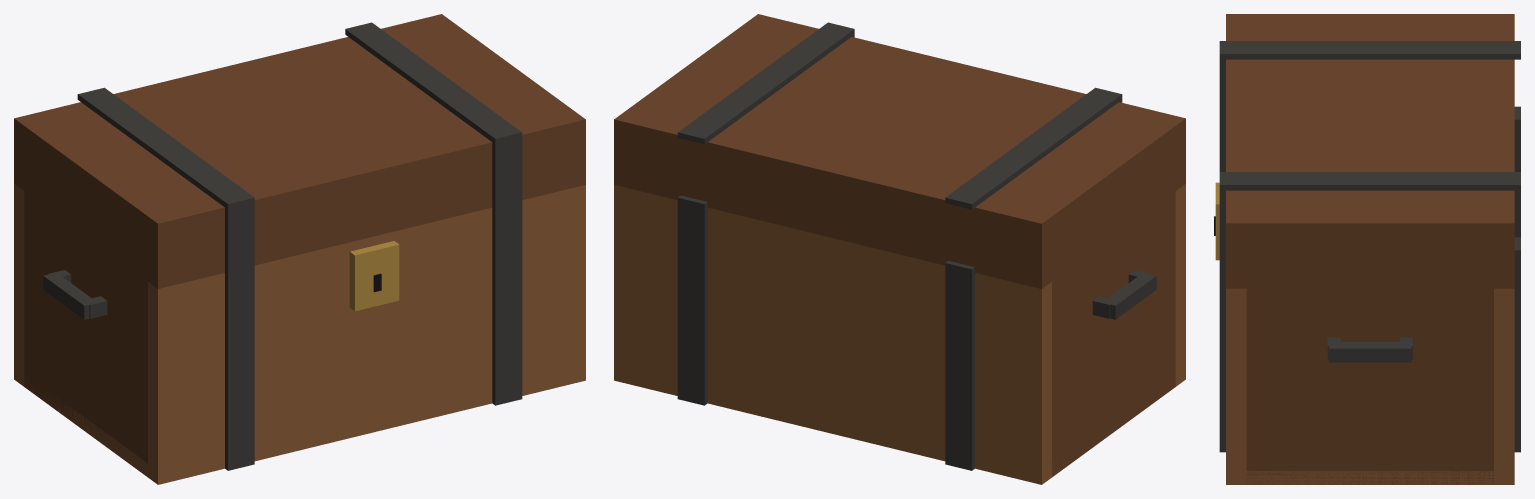
The model's file is prop-cave-chest.glb.
3 renders of one model, left to right at view 1: azimuth 30°, elevation 25°; view 2: azimuth 150°, elevation 25°; view 3: azimuth 270°, elevation 25°, orthographic.
Parts seen in each view (by area): view 1: CaveChest; view 2: CaveChest; view 3: CaveChest.
Boxes of the visible parts, left/top/right/bottom form: CaveChest: left=14, top=14, right=585, bottom=484; CaveChest: left=614, top=14, right=1185, bottom=484; CaveChest: left=1214, top=14, right=1520, bottom=484.
Size of the model in its own units: 1.06 by 0.572 by 0.595.
